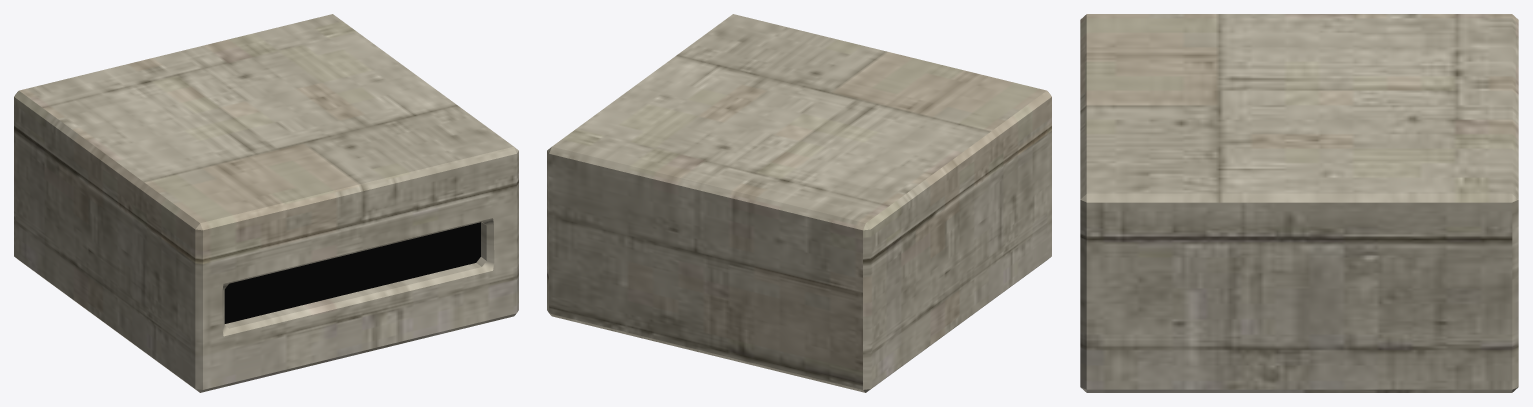
Rendered from bonker.fbx.
The picture shows the model from 3 angles, left to right: view 1: azimuth 30°, elevation 25°; view 2: azimuth 150°, elevation 25°; view 3: azimuth 270°, elevation 25°; orthographic projection. The views are drawn at different scales.
Parts seen in each view (by area): view 1: pCube1; view 2: pCube1; view 3: pCube1.
Part boxes in pixels (left/top/right/bottom): pCube1: left=14, top=14, right=518, bottom=392; pCube1: left=547, top=14, right=1051, bottom=392; pCube1: left=1080, top=14, right=1518, bottom=392.
Bounding box in the file's own units: 7.69 × 3.85 × 7.69.
